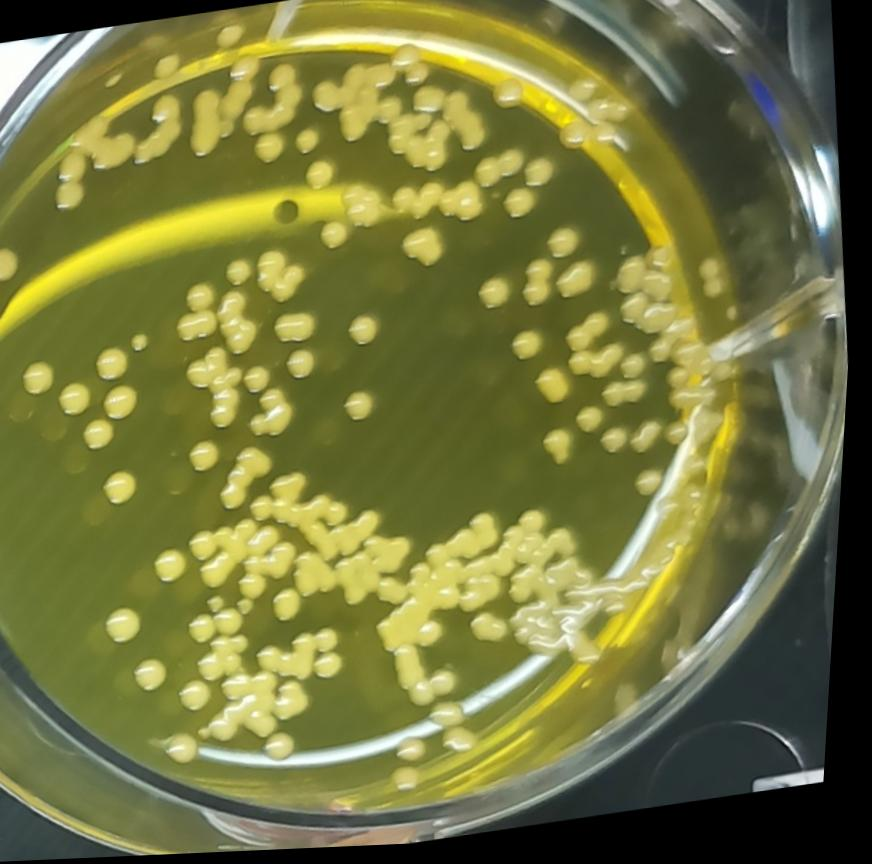staphylo-: (182, 343, 257, 439), (502, 506, 590, 580), (395, 640, 470, 718), (192, 520, 269, 594), (263, 628, 350, 691), (375, 598, 459, 660), (218, 443, 284, 517), (254, 244, 313, 311), (215, 286, 265, 361), (170, 282, 224, 351), (385, 181, 453, 231), (617, 297, 683, 347), (248, 385, 303, 443), (517, 257, 565, 319), (294, 549, 349, 603), (454, 511, 510, 564), (397, 226, 451, 279), (336, 511, 393, 560), (569, 348, 636, 388), (337, 183, 387, 236), (267, 308, 323, 354), (371, 532, 421, 583), (438, 180, 489, 230), (100, 467, 152, 516), (133, 654, 183, 704), (553, 260, 604, 309), (534, 365, 581, 416), (540, 428, 585, 481), (55, 375, 103, 423), (19, 353, 66, 402), (108, 602, 155, 651), (101, 381, 149, 427), (156, 544, 201, 591), (567, 312, 616, 355), (472, 611, 523, 652), (92, 344, 138, 388), (282, 345, 327, 389), (184, 676, 228, 720), (82, 414, 124, 459), (487, 77, 530, 120), (248, 128, 290, 172), (343, 312, 388, 353), (478, 276, 518, 322), (615, 257, 654, 304), (507, 329, 550, 371), (298, 159, 342, 200), (274, 586, 314, 631), (544, 226, 587, 267), (314, 216, 357, 256), (522, 155, 563, 196), (500, 189, 541, 230), (341, 387, 383, 427), (189, 439, 229, 480), (604, 383, 655, 415), (632, 422, 671, 463), (637, 470, 676, 509), (293, 126, 329, 162), (243, 362, 277, 398), (600, 430, 635, 464), (576, 408, 612, 441), (224, 257, 257, 291), (620, 356, 652, 386), (131, 331, 153, 356), (0, 530, 7, 576)
